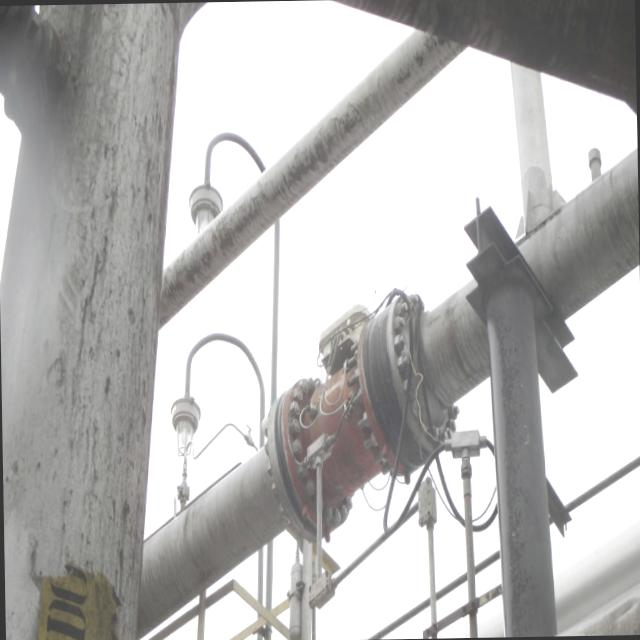gas: (136, 147, 639, 629), (158, 31, 465, 328)
